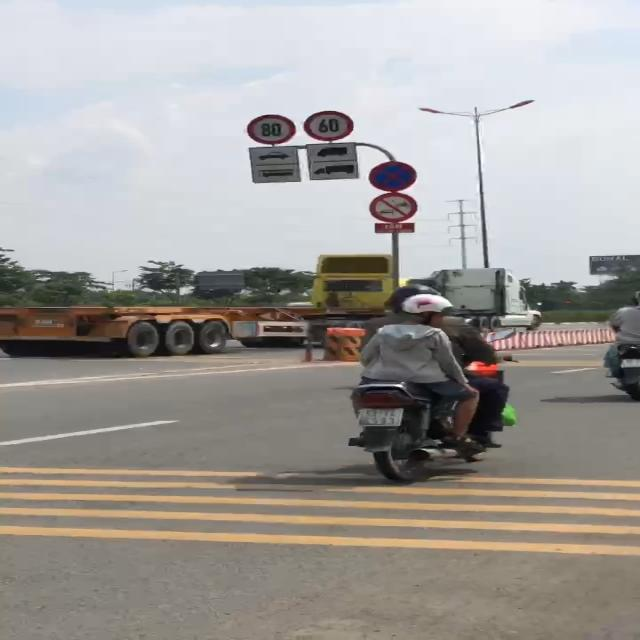Bien bao cam dung xe va do xe: (363, 158, 422, 194)
Bien bao toc do toi da cho phep: (246, 110, 296, 146), (300, 108, 346, 142)
